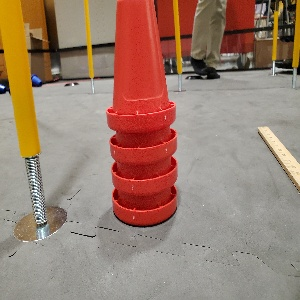Red_4: (104, 0, 187, 234)
